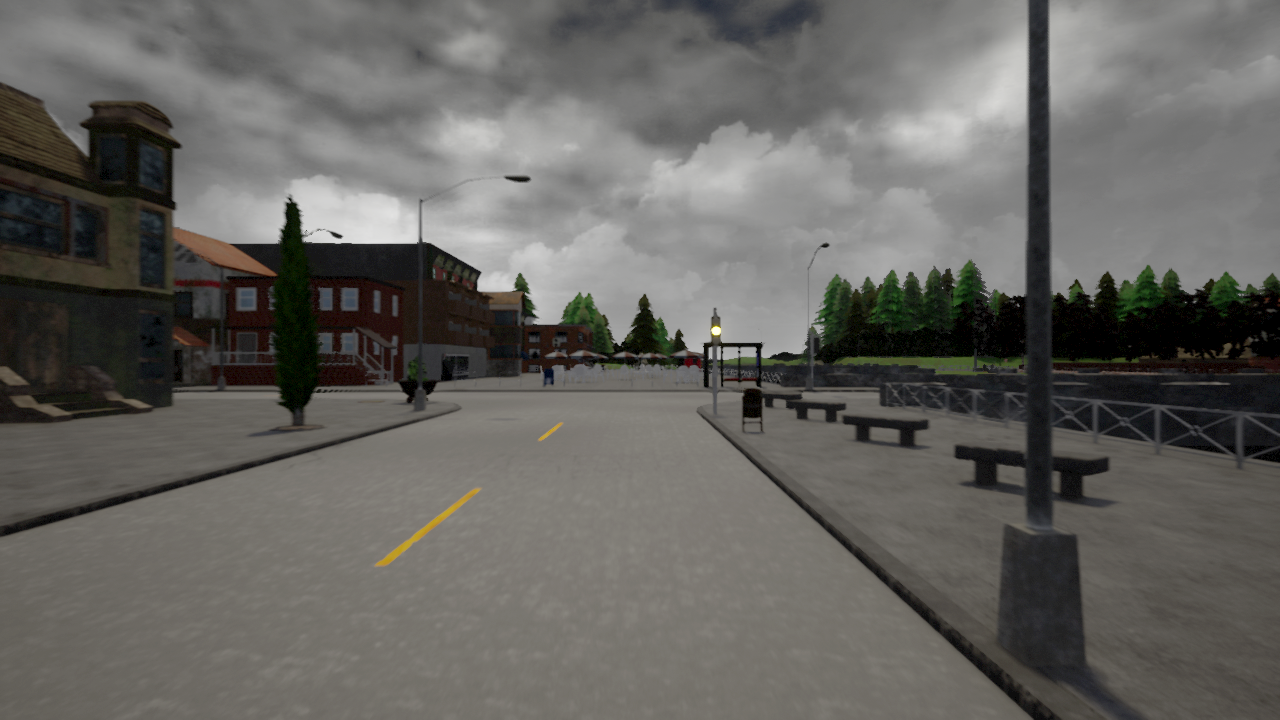yellow: (710, 316, 723, 349)
